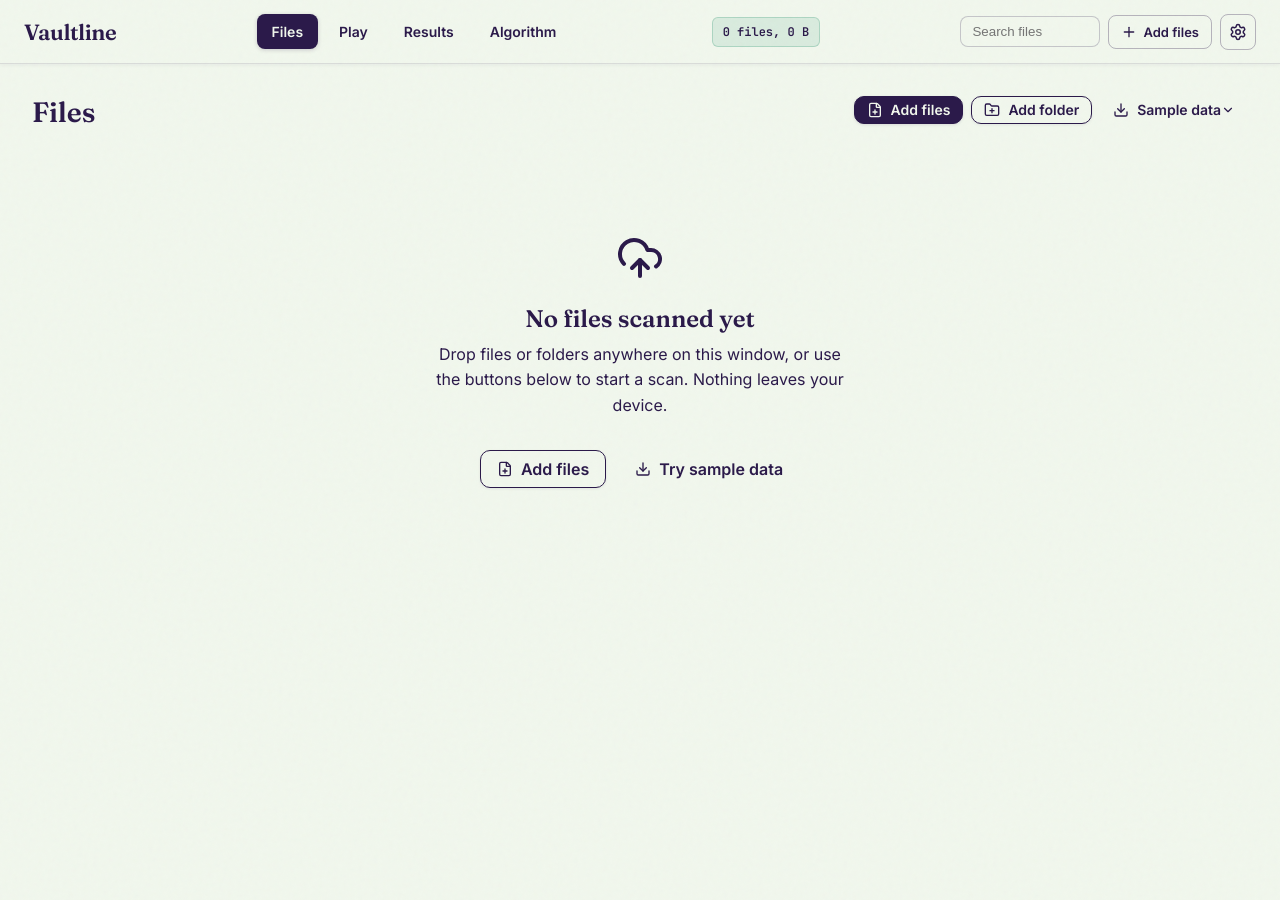
Test: simplified navigation › keeps Watch it think, Comparison and Cost in the Algorithm drawer for now
Step 1. Click the button "Algorithm" → x=523, y=32, box [475,14,571,49]
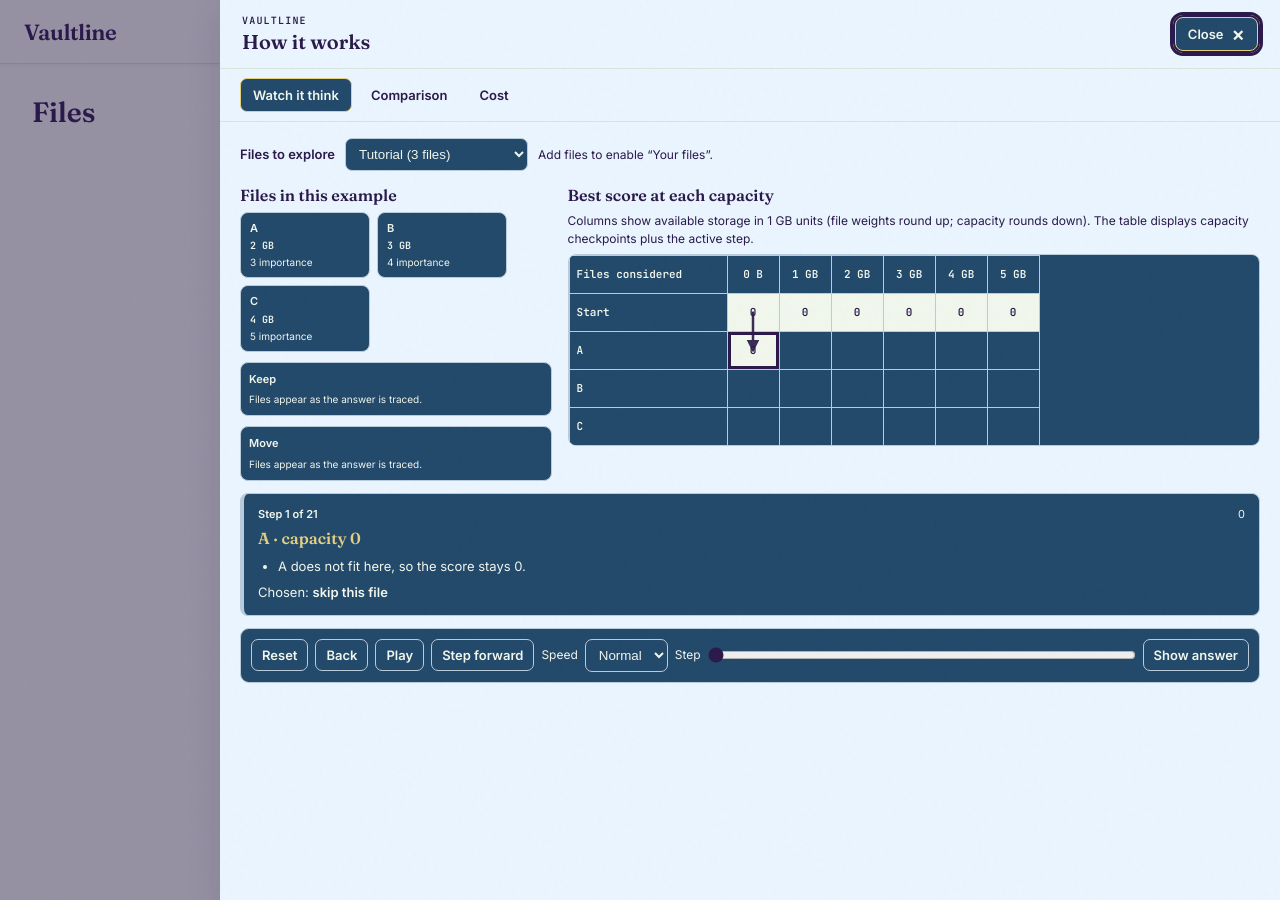
Step 2. Click the tab "Cost" → x=494, y=95, box [466,78,522,112]
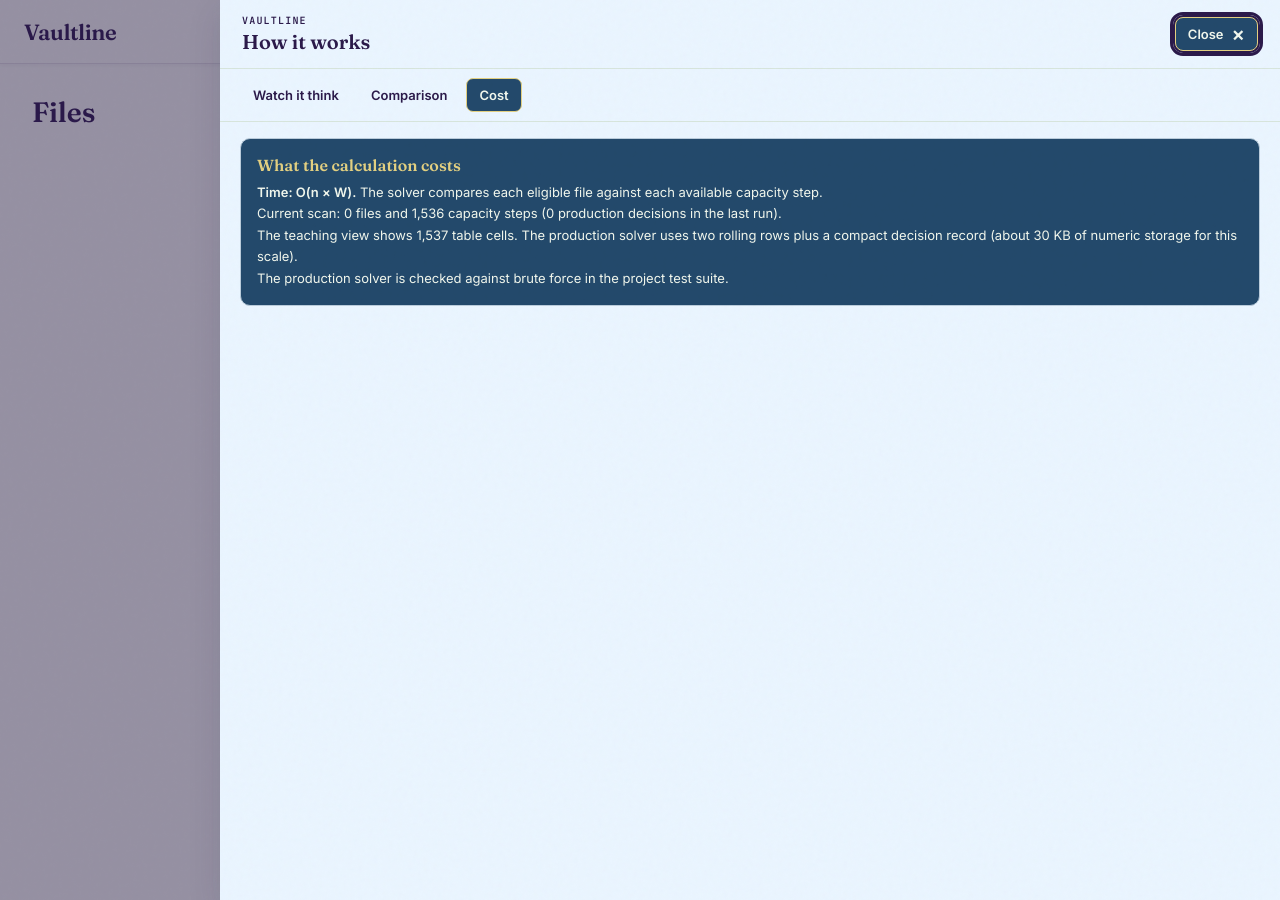
Expected: the text "Time: O(n × W)." is shown, [257,184,356,200]
Expected: the text "checked against brute force in the project test suite" is shown, [257,270,729,286]
